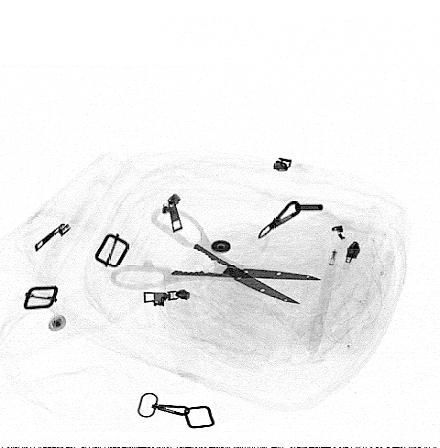Scissors: (111, 208, 322, 304)
